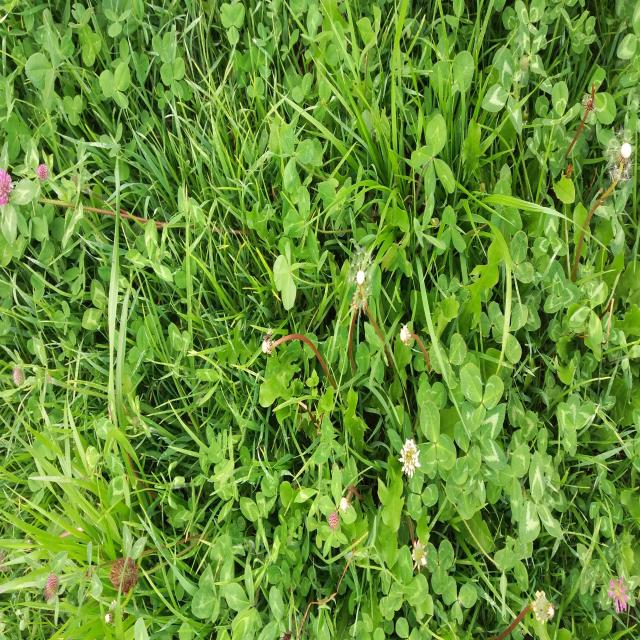Four Leaf Clover: (410, 114, 456, 198)
